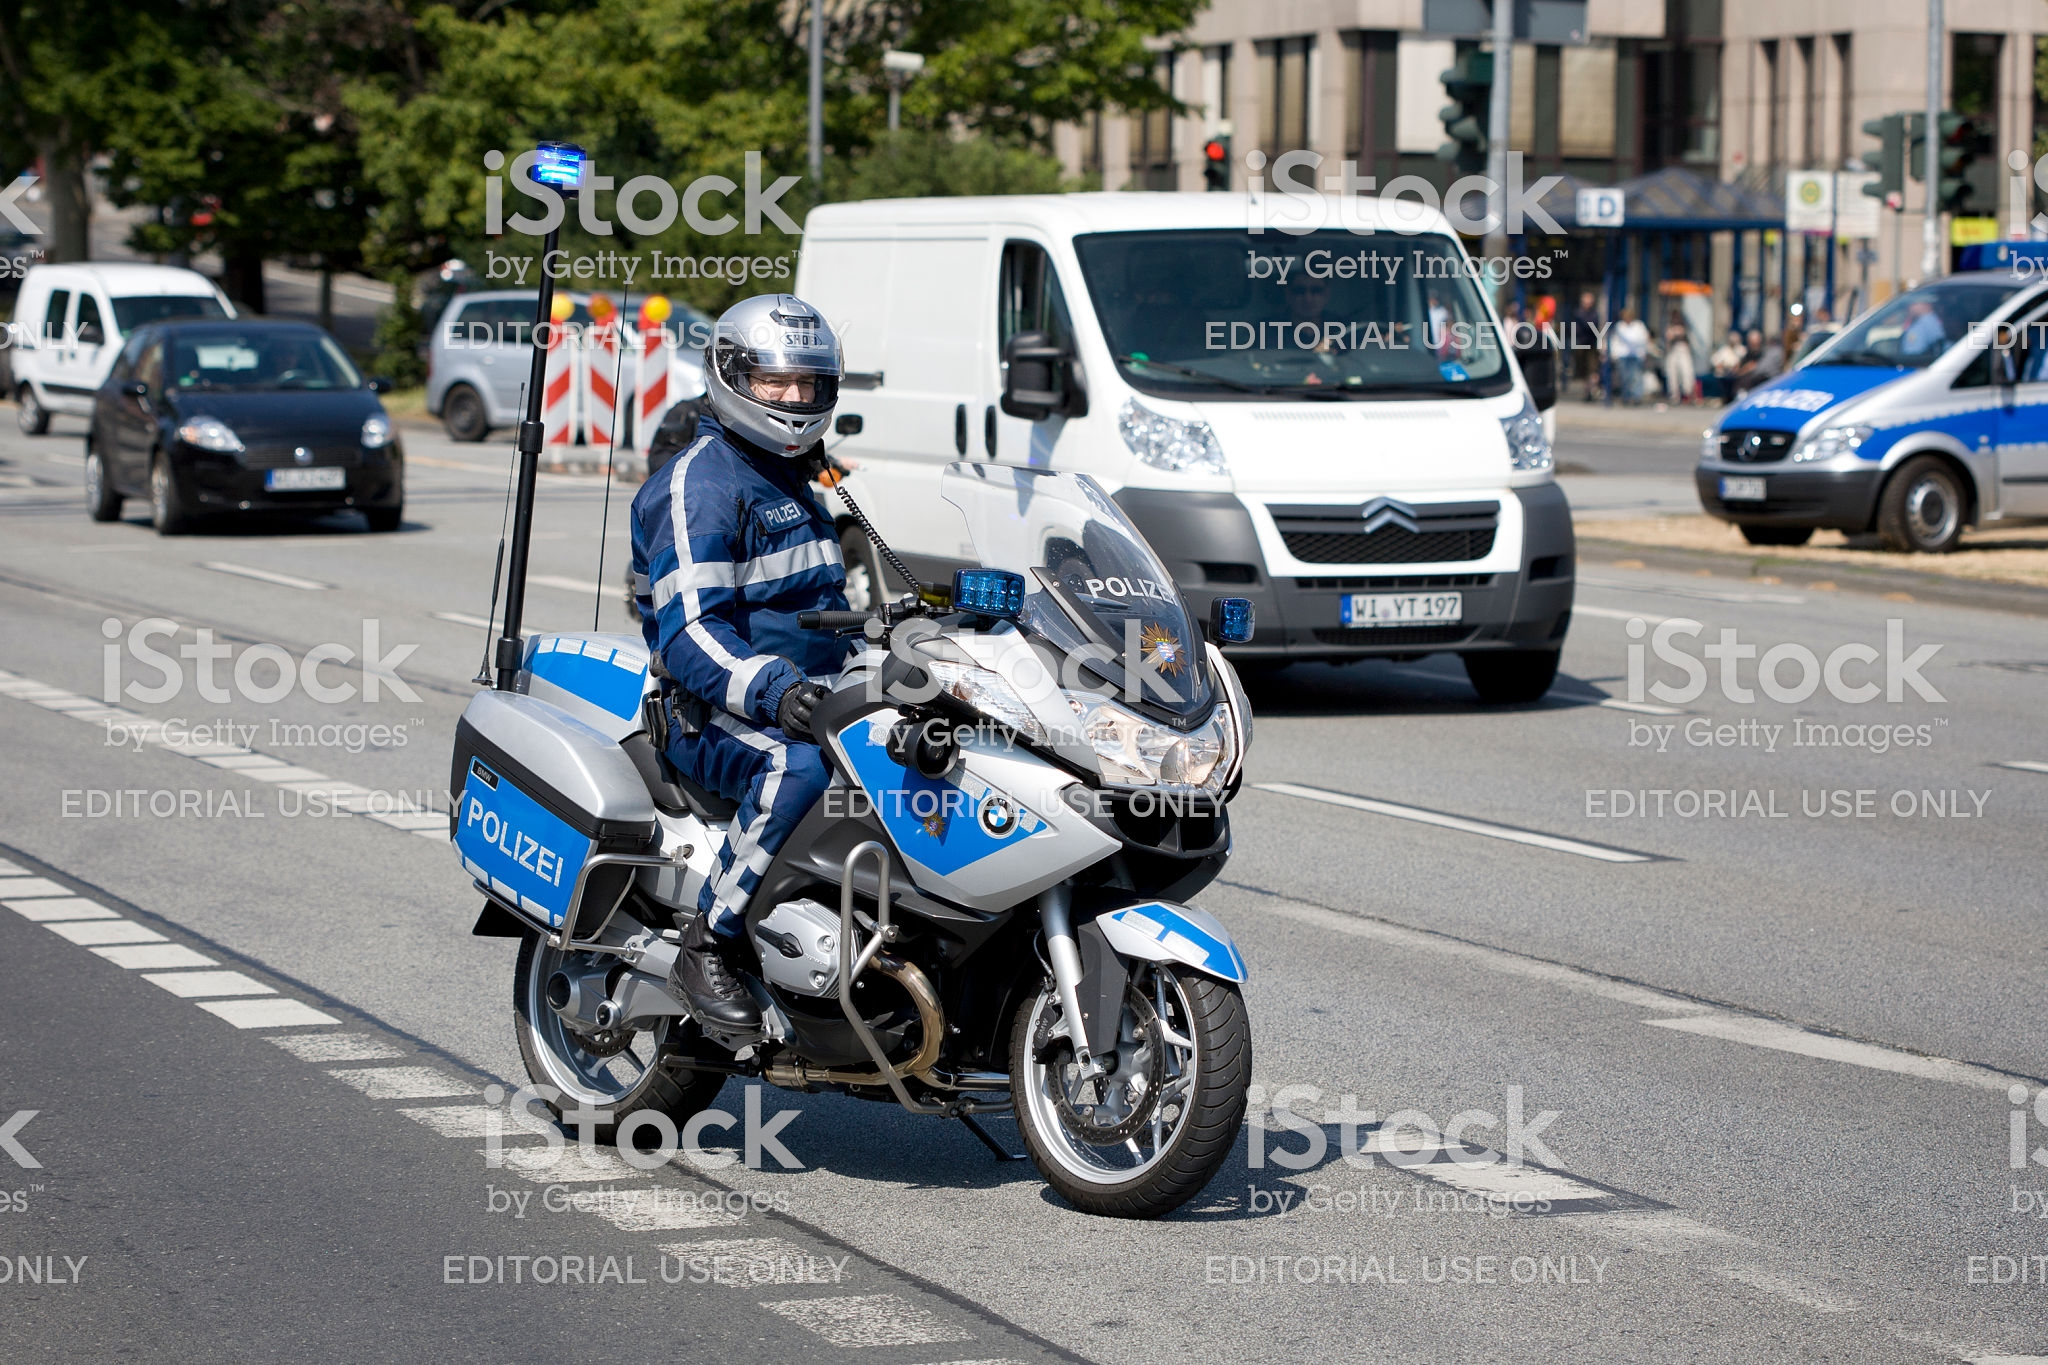helmet: (694, 288, 869, 471)
